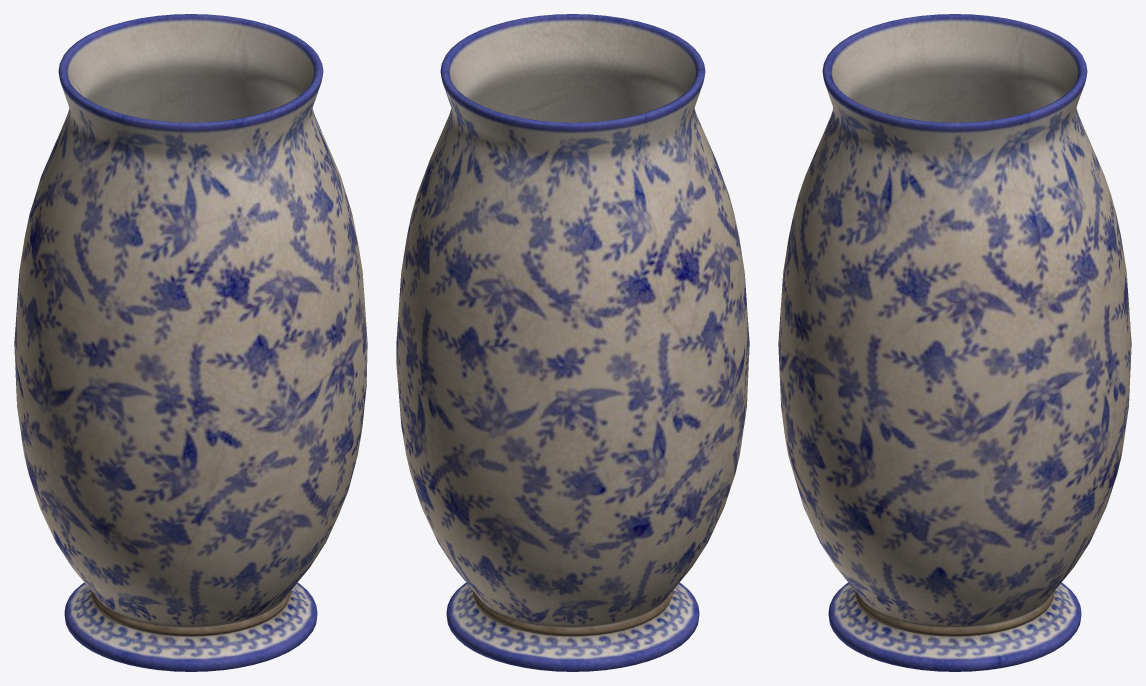
File: antique_ceramic_vase_01_lod1.glb
3 renders of one model, left to right at view 1: azimuth 30°, elevation 25°; view 2: azimuth 150°, elevation 25°; view 3: azimuth 270°, elevation 25°, orthographic.
Parts seen in each view (by area): view 1: antique_ceramic_vase_01; view 2: antique_ceramic_vase_01; view 3: antique_ceramic_vase_01.
Boxes of the visible parts, x1,y1,x2,y2 form: antique_ceramic_vase_01: (14, 14, 367, 671); antique_ceramic_vase_01: (396, 14, 749, 671); antique_ceramic_vase_01: (778, 14, 1131, 671).
Bounding box in the file's own units: 0.2549 × 0.4396 × 0.255.
1 material, 1 textured.
